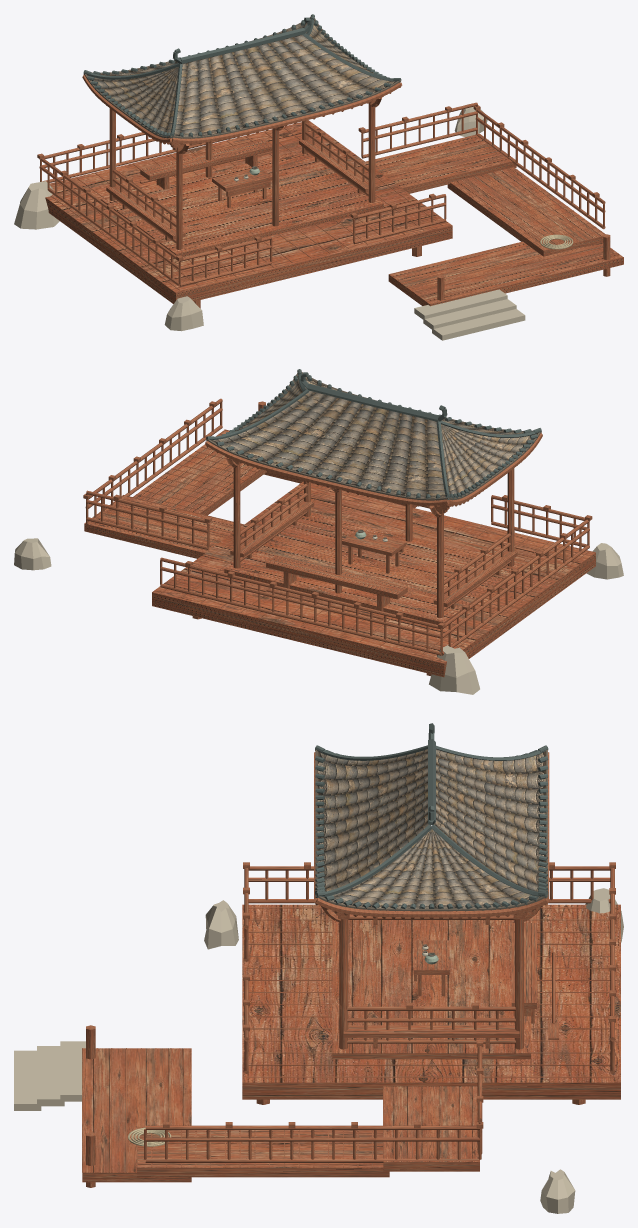
3 views of the same model, one above another, from view 1: azimuth 30°, elevation 25°; view 2: azimuth 150°, elevation 25°; view 3: azimuth 270°, elevation 25° (orthographic). The views are drawn at different scales.
Visible parts, largest first — view 1: lingao__painted_cedar, lingao__painted_roof, lingao__warm_limestone, lingao__tile_ridges, lingao__chibi_ink; view 2: lingao__painted_cedar, lingao__painted_roof, lingao__tile_ridges, lingao__warm_limestone, lingao__chibi_ink; view 3: lingao__painted_cedar, lingao__painted_roof, lingao__warm_limestone, lingao__tile_ridges, lingao__chibi_ink.
Boxes of the visible parts, x1,y1,x2,y2 form: lingao__painted_cedar: (37, 74, 623, 308); lingao__painted_roof: (87, 20, 396, 136); lingao__warm_limestone: (14, 104, 525, 340); lingao__tile_ridges: (83, 14, 401, 138); lingao__chibi_ink: (84, 17, 400, 178); lingao__painted_cedar: (83, 398, 595, 677); lingao__painted_roof: (211, 375, 537, 498); lingao__tile_ridges: (206, 369, 541, 500); lingao__warm_limestone: (14, 536, 623, 694); lingao__chibi_ink: (206, 372, 540, 539); lingao__painted_cedar: (82, 752, 620, 1187); lingao__painted_roof: (317, 749, 545, 908); lingao__warm_limestone: (14, 888, 623, 1213); lingao__tile_ridges: (315, 723, 548, 909); lingao__chibi_ink: (315, 749, 547, 956).
Size of the model in its own units: 16.38 by 7.07 by 14.5.
Materials: 7 (2 with a texture image).
